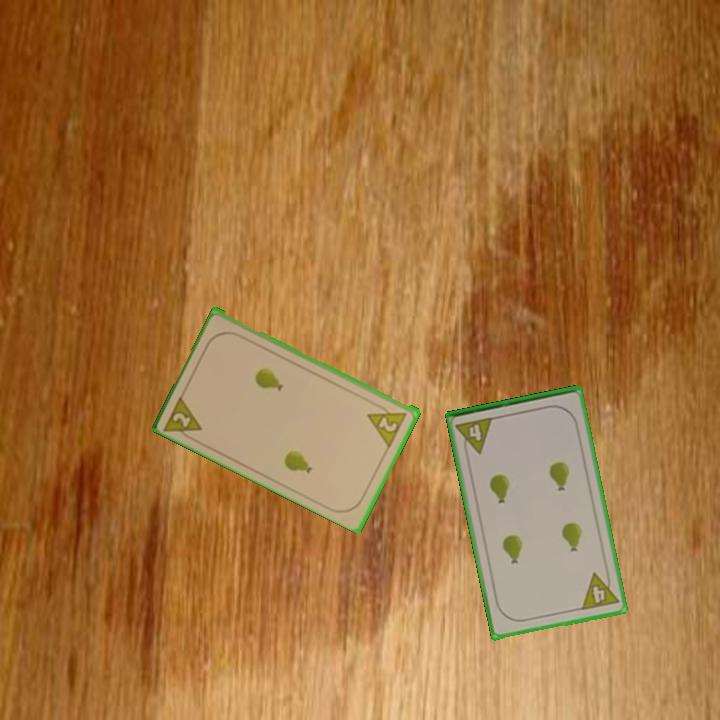2p: (161, 390, 206, 445), (364, 400, 410, 449)
4p: (578, 567, 622, 613), (452, 414, 496, 458)
